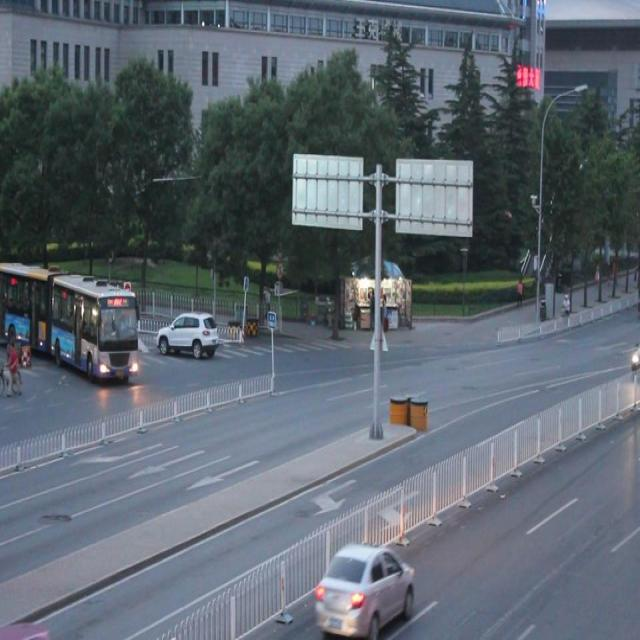car: (312, 535, 414, 640), (157, 308, 218, 360)
van: (1, 256, 140, 386)
